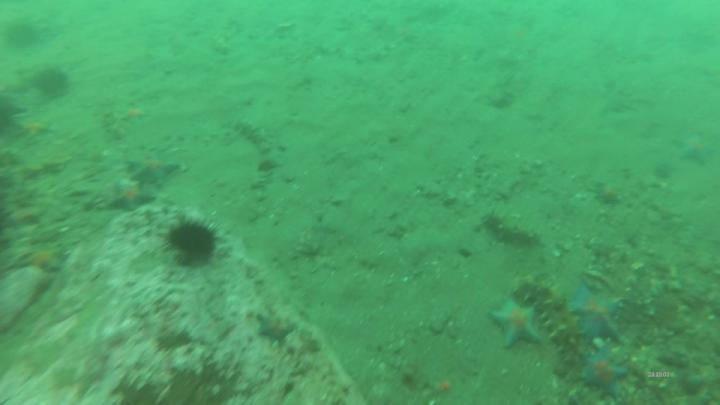echinus: (169, 219, 215, 263), (33, 65, 71, 104), (7, 21, 43, 48)
holothurian: (514, 279, 592, 379), (232, 116, 279, 173), (484, 206, 538, 243)
starfish: (565, 286, 626, 343), (492, 297, 542, 351), (580, 353, 629, 397), (110, 178, 157, 215), (132, 154, 181, 187), (676, 132, 718, 167), (27, 245, 64, 276), (595, 177, 625, 207), (18, 120, 50, 144)
